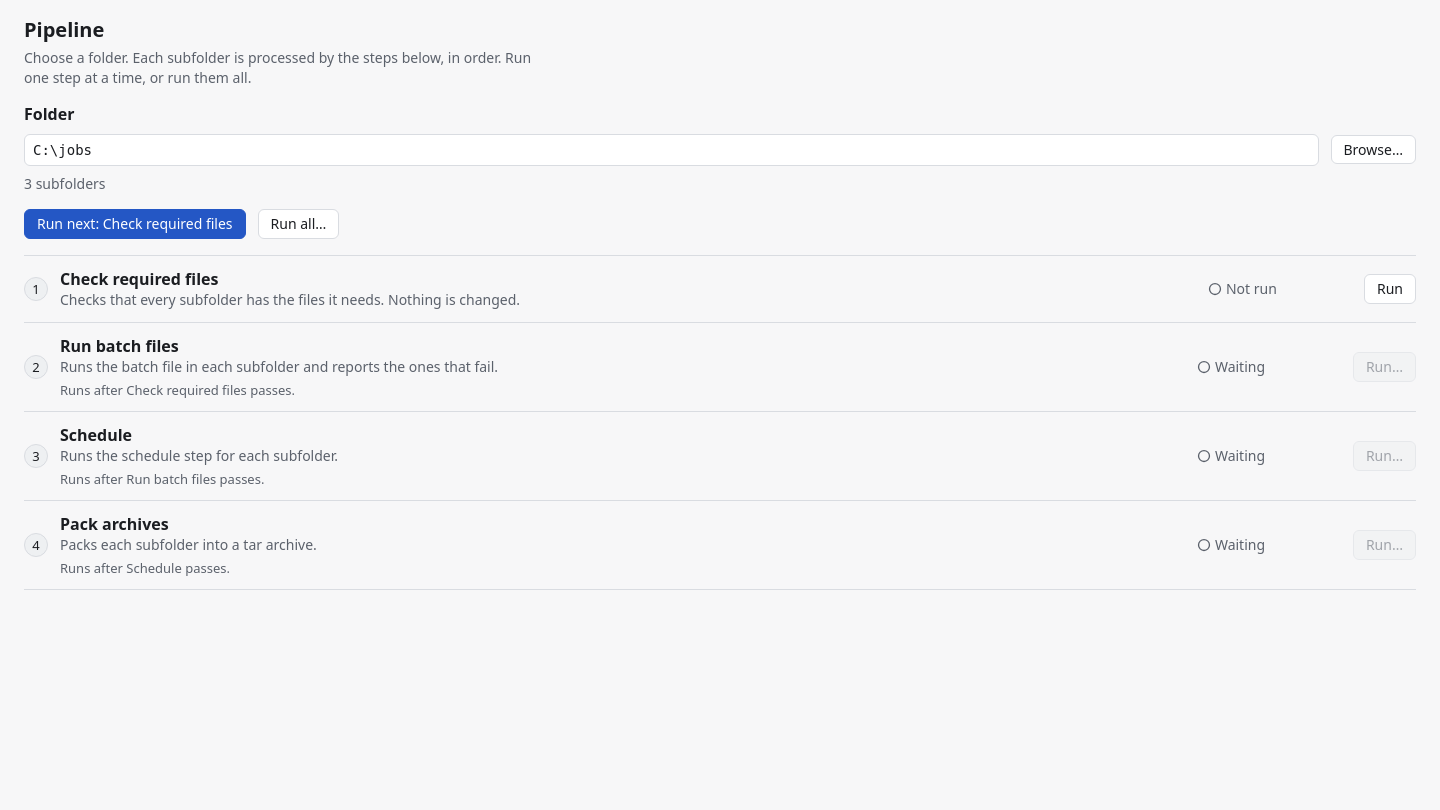
issues are listed with their subfolder
Expected: the field labelled "Folder" is shown, x1=24 y1=134 x2=1318 y2=166
Click the button with aria-label "Run Check required files" at (1390, 289), box x1=1364 y1=274 x2=1416 y2=304
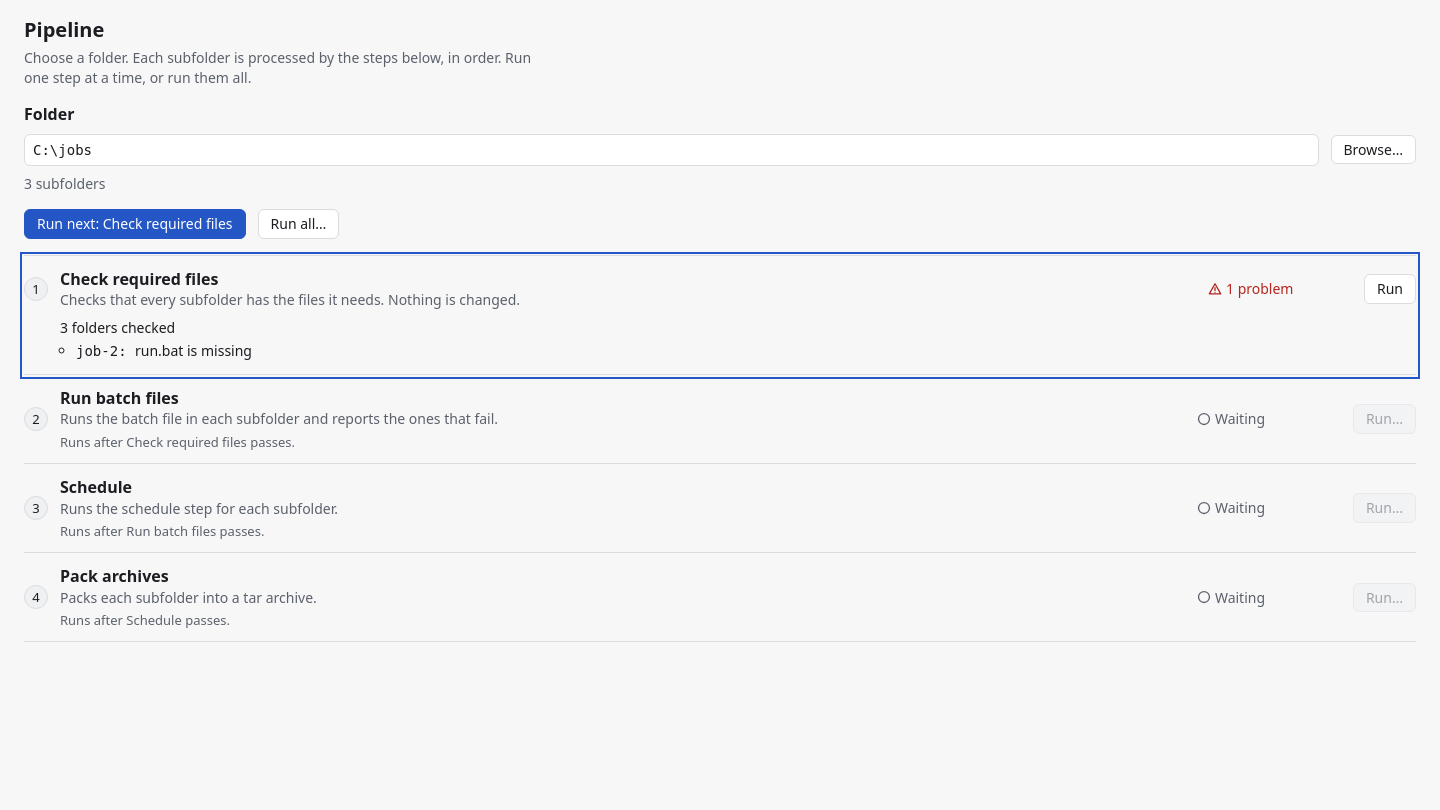
Result: the list named "Check required files problems" reads "job-2: run.bat is missing" at x1=76 y1=341 x2=252 y2=360
Result: the text "1 problem" is shown at x1=1208 y1=279 x2=1294 y2=298
